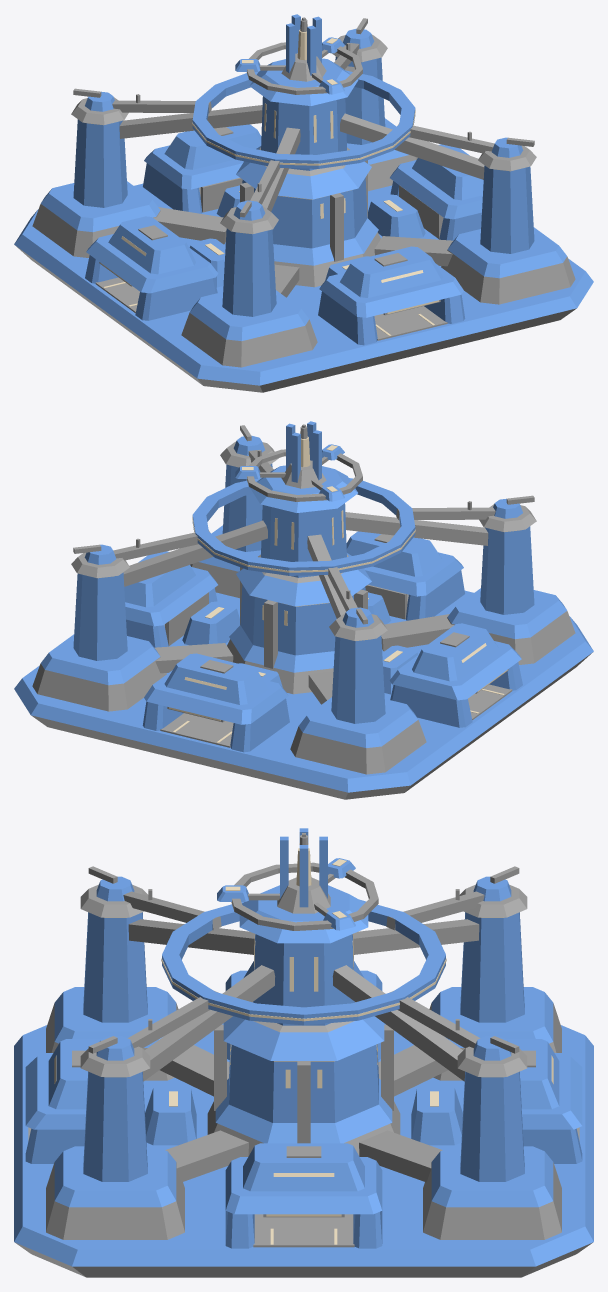
The model's file is CommandStation_L5.glb.
The picture shows the model from 3 angles, top to bottom: view 1: azimuth 30°, elevation 25°; view 2: azimuth 150°, elevation 25°; view 3: azimuth 270°, elevation 25°; orthographic projection. The views are drawn at different scales.
Visible parts, largest first — view 1: Citadel deck, Capital crown armored ring, Watchtower body 1 -1, Watchtower body -1 -1, Watchtower body -1 1, Command keep, Upper command lantern, Undercut armor apron, Bastion armored footing -1 -1, Bastion armored footing 1 -1, Logistics gallery 0, Bastion armor cap 1 -1 (+45 smaller); view 2: Citadel deck, Capital crown armored ring, Watchtower body 1 1, Watchtower body -1 1, Watchtower body -1 -1, Command keep, Upper command lantern, Undercut armor apron, Bastion armored footing -1 1, Bastion armored footing 1 1, Logistics gallery 2, Bastion armor cap 1 1 (+45 smaller); view 3: Citadel deck, Capital crown armored ring, Command keep, Watchtower body 1 -1, Watchtower body 1 1, Watchtower body -1 -1, Watchtower body -1 1, Undercut armor apron, Upper command lantern, Bastion armor cap 1 -1, Bastion armor cap 1 1, Bastion armored footing 1 -1 (+50 smaller).
Part boxes in pixels (x1=…): Citadel deck: x1=14, y1=183, x2=593, y2=385; Capital crown armored ring: x1=192, y1=70, x2=415, y2=168; Watchtower body 1 -1: x1=480, y1=165, x2=534, y2=253; Watchtower body -1 -1: x1=222, y1=228, x2=276, y2=316; Watchtower body -1 1: x1=73, y1=119, x2=127, y2=207; Command keep: x1=242, y1=177, x2=367, y2=248; Upper command lantern: x1=261, y1=96, x2=346, y2=170; Undercut armor apron: x1=15, y1=245, x2=576, y2=392; Bastion armored footing -1 -1: x1=181, y1=313, x2=317, y2=367; Bastion armored footing 1 -1: x1=441, y1=250, x2=575, y2=304; Logistics gallery 0: x1=340, y1=246, x2=443, y2=297; Bastion armor cap 1 -1: x1=447, y1=227, x2=567, y2=278; Citadel deck: x1=14, y1=590, x2=593, y2=792; Capital crown armored ring: x1=192, y1=477, x2=415, y2=575; Watchtower body 1 1: x1=73, y1=572, x2=127, y2=660; Watchtower body -1 1: x1=331, y1=635, x2=385, y2=723; Watchtower body -1 -1: x1=480, y1=526, x2=534, y2=614; Command keep: x1=240, y1=584, x2=365, y2=655; Upper command lantern: x1=261, y1=503, x2=346, y2=577; Undercut armor apron: x1=31, y1=652, x2=592, y2=799; Bastion armored footing -1 1: x1=290, y1=720, x2=426, y2=774; Bastion armored footing 1 1: x1=32, y1=657, x2=166, y2=711; Logistics gallery 2: x1=164, y1=653, x2=267, y2=704; Bastion armor cap 1 1: x1=40, y1=634, x2=160, y2=685; Citadel deck: x1=14, y1=1023, x2=593, y2=1266; Capital crown armored ring: x1=162, y1=899, x2=445, y2=1025; Command keep: x1=229, y1=1044, x2=378, y2=1122; Watchtower body 1 -1: x1=83, y1=1071, x2=147, y2=1181; Watchtower body 1 1: x1=460, y1=1071, x2=524, y2=1181; Watchtower body -1 -1: x1=83, y1=912, x2=147, y2=1022; Watchtower body -1 1: x1=460, y1=912, x2=524, y2=1022; Undercut armor apron: x1=15, y1=1242, x2=592, y2=1277; Upper command lantern: x1=253, y1=934, x2=354, y2=1025; Bastion armor cap 1 -1: x1=54, y1=1146, x2=176, y2=1207; Bastion armor cap 1 1: x1=431, y1=1146, x2=553, y2=1207; Bastion armored footing 1 -1: x1=46, y1=1162, x2=184, y2=1239.
Bounding box in the file's own units: 200 × 144 × 200.
